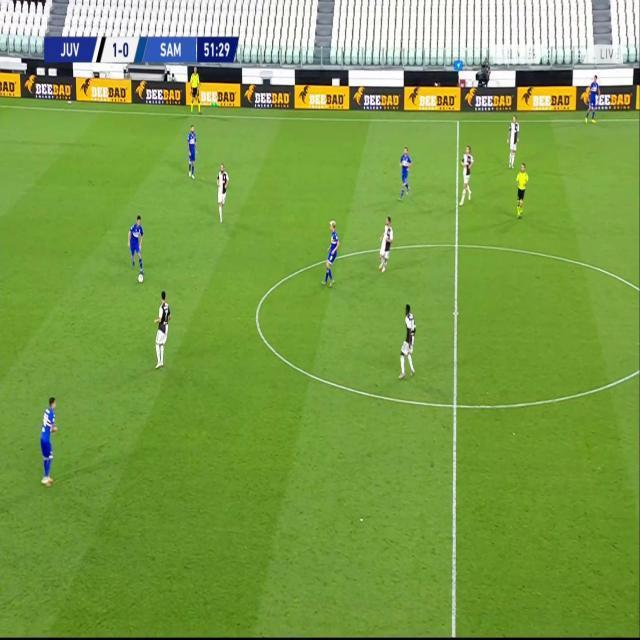ball: (137, 271, 144, 283)
player: (37, 393, 60, 485), (396, 301, 418, 381), (152, 287, 172, 368), (322, 218, 341, 288), (127, 213, 146, 273), (378, 213, 395, 274), (459, 143, 475, 205), (215, 161, 230, 222), (584, 74, 601, 125), (398, 145, 414, 199), (507, 112, 520, 169), (186, 123, 199, 178)
referee: (514, 161, 529, 219), (188, 65, 202, 113)
